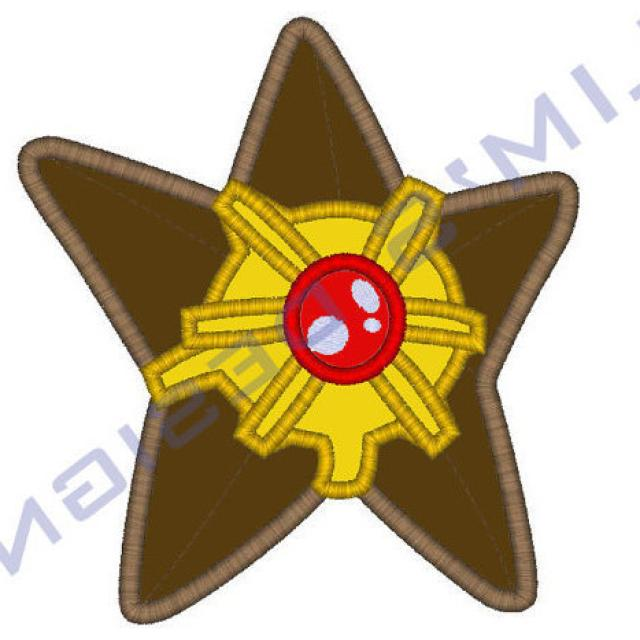Staryu: (18, 19, 583, 616)
